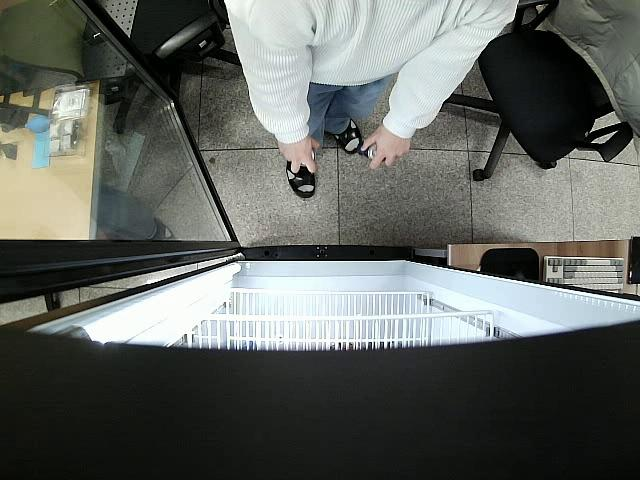00_hand: (361, 123, 411, 171), (276, 136, 320, 175)
